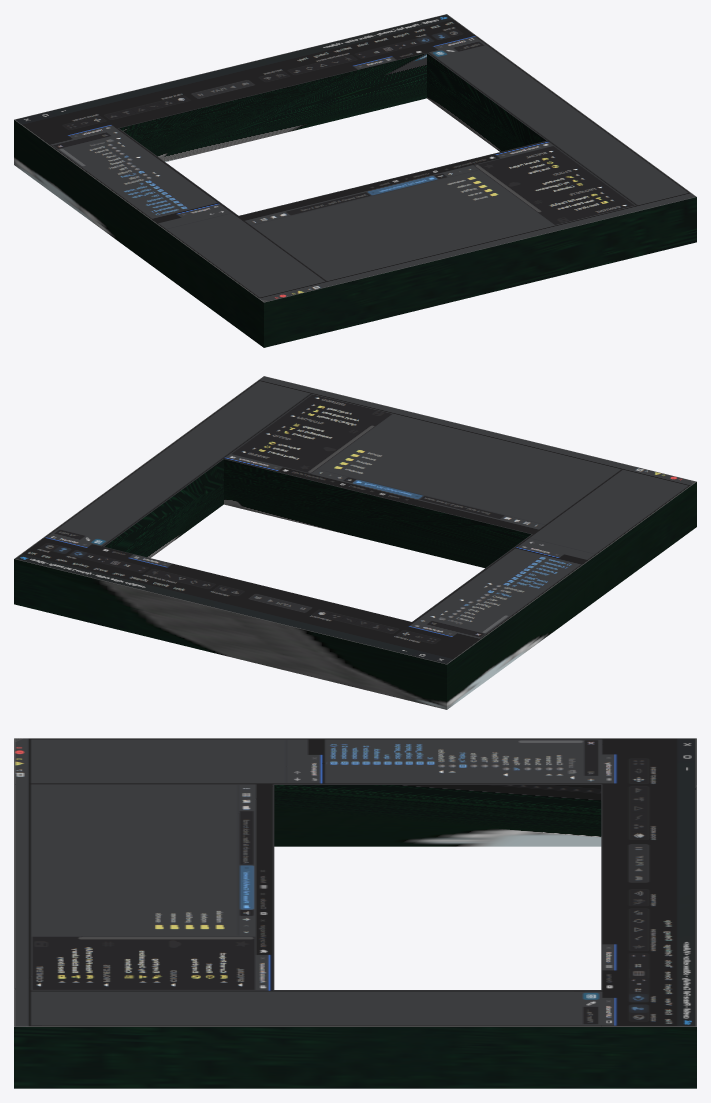
The model's file is editor_facade.fbx.
3 views of the same model, one above another, from view 1: azimuth 30°, elevation 25°; view 2: azimuth 150°, elevation 25°; view 3: azimuth 270°, elevation 25° (orthographic). The views are drawn at different scales.
Parts seen in each view (by area): view 1: Editor.000, Editor.001, Editor.002, Editor.003; view 2: Editor.000, Editor.001, Editor.002, Editor.003; view 3: Editor.003, Editor.000, Editor.001, Editor.002.
Boxes of the visible parts, left/top/right/bottom form: Editor.000: left=239, top=140, right=641, bottom=330; Editor.001: left=14, top=102, right=333, bottom=347; Editor.002: left=84, top=14, right=481, bottom=161; Editor.003: left=427, top=39, right=696, bottom=255; Editor.000: left=224, top=389, right=626, bottom=567; Editor.001: left=377, top=464, right=696, bottom=709; Editor.002: left=14, top=533, right=411, bottom=692; Editor.003: left=49, top=376, right=318, bottom=557; Editor.003: left=14, top=990, right=601, bottom=1088; Editor.000: left=14, top=785, right=274, bottom=989; Editor.001: left=14, top=738, right=696, bottom=846; Editor.002: left=601, top=785, right=696, bottom=1088.
Bounding box in the file's own units: 2000 × 200 × 2000.
